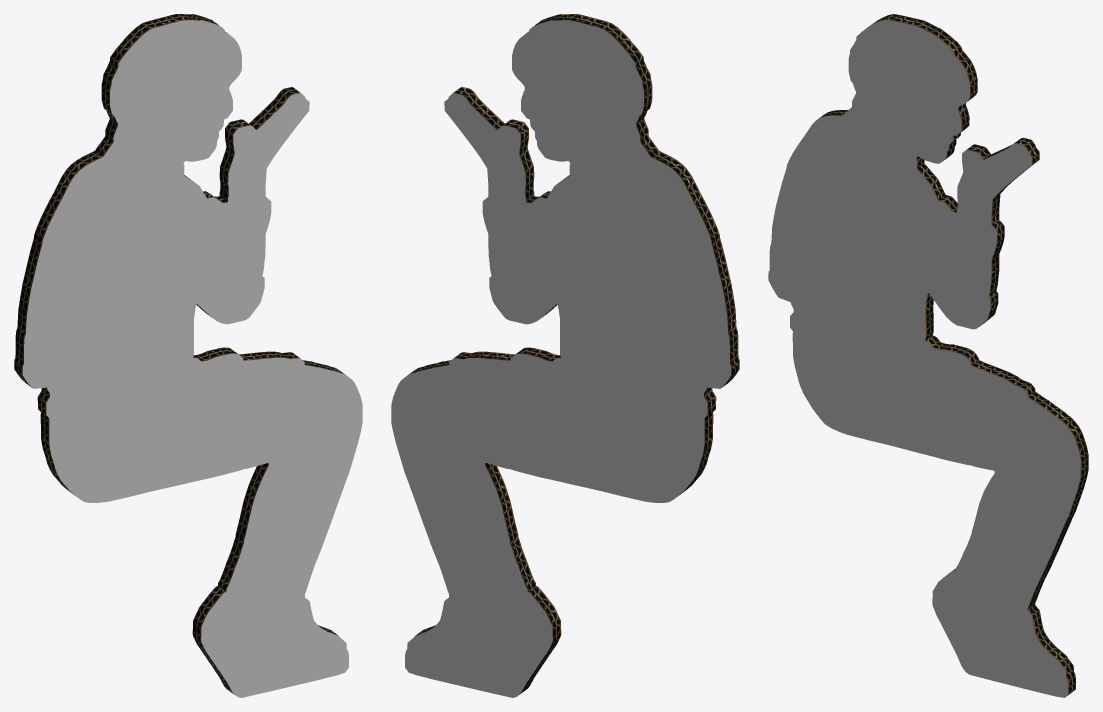
Rendered from NPC_Cafe_Worker_Sitting_Chatting_Female.FBX.
The picture shows the model from 3 angles, left to right: view 1: azimuth 30°, elevation 25°; view 2: azimuth 150°, elevation 25°; view 3: azimuth 330°, elevation 25°; orthographic projection. The views are drawn at different scales.
Parts seen in each view (by area): view 1: NPC_Cafe_Worker_Sitting_Chatting_Female; view 2: NPC_Cafe_Worker_Sitting_Chatting_Female; view 3: NPC_Cafe_Worker_Sitting_Chatting_Female.
Boxes of the visible parts, <box> form: NPC_Cafe_Worker_Sitting_Chatting_Female: <box>14,14,362,697</box>; NPC_Cafe_Worker_Sitting_Chatting_Female: <box>391,14,739,697</box>; NPC_Cafe_Worker_Sitting_Chatting_Female: <box>768,14,1088,697</box>.
Size of the model in its own units: 29.08 by 56.61 by 1.24.
